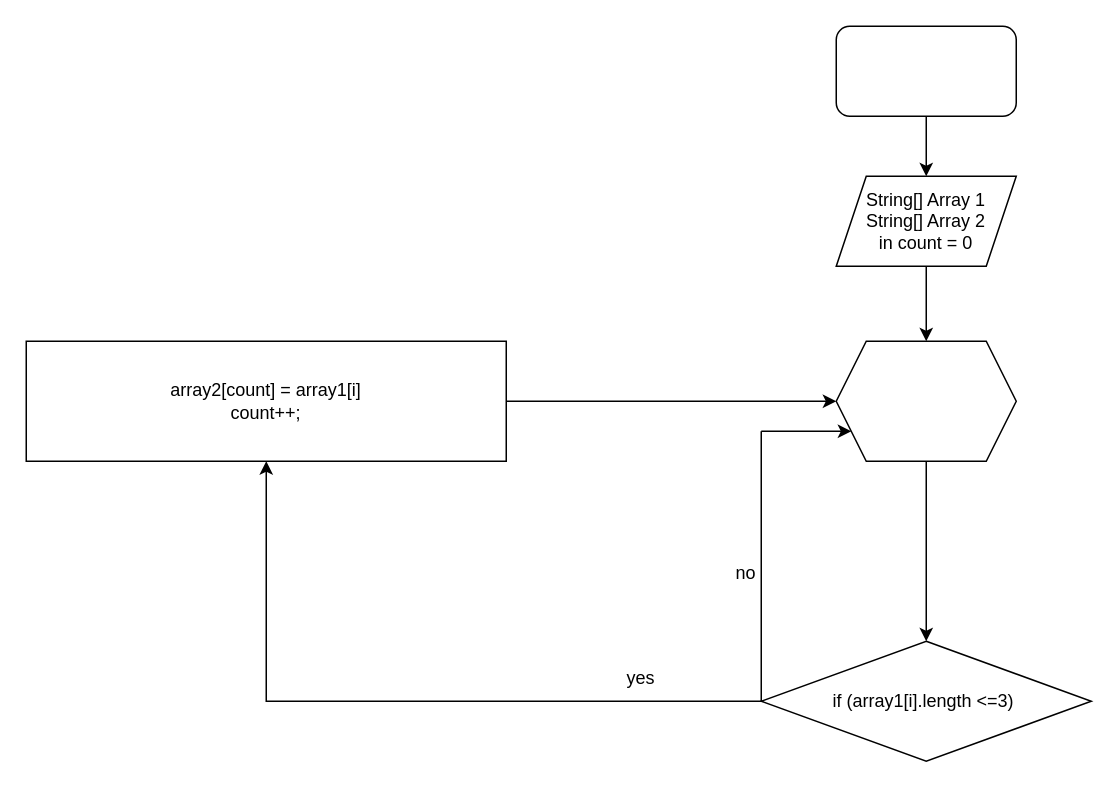
This 1118x788 diagram has some shape labels left out. Here are the shapes that lost their labels. From the top down, the box of each, then its label:
(835, 25, 1016, 116): SecondArrayWithif
(835, 340, 1016, 461): for (int i=0; i< array1.length; i++)
